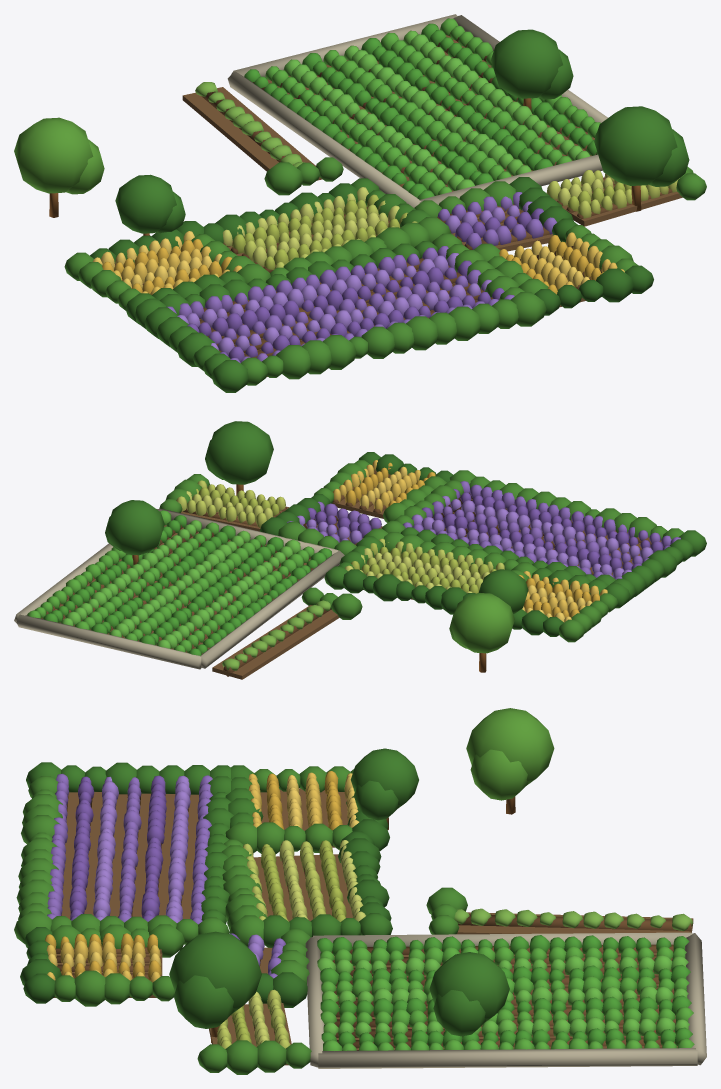
Rendered from improvement_farm_0_0.fbx.
The picture shows the model from 3 angles, top to bottom: view 1: azimuth 30°, elevation 25°; view 2: azimuth 150°, elevation 25°; view 3: azimuth 270°, elevation 25°; orthographic projection. The views are drawn at different scales.
Parts seen in each view (by area): view 1: improvement_farm_0_0_hedge2_05, improvement_farm_0_0_leaf#3f7a2c_30, improvement_farm_0_0_crop#4c9a36_26, improvement_farm_0_0_crop#5aa83e_25, improvement_farm_0_0_crop#68b448_27, improvement_farm_0_0_crop#8a6ab8_02, improvement_farm_0_0_fwall_28, improvement_farm_0_0_crop#9a7ac8_04, improvement_farm_0_0_crop#7a5aa8_03, improvement_farm_0_0_hedge0.001_15, improvement_farm_0_0_leaf#5a9a38.001_31, improvement_farm_0_0_hedge2.001_08 (+16 smaller); view 2: improvement_farm_0_0_crop#5aa83e_25, improvement_farm_0_0_crop#4c9a36_26, improvement_farm_0_0_leaf#3f7a2c_30, improvement_farm_0_0_fwall_28, improvement_farm_0_0_crop#68b448_27, improvement_farm_0_0_hedge2_05, improvement_farm_0_0_crop#8a6ab8_02, improvement_farm_0_0_hedge0.001_15, improvement_farm_0_0_crop#9a7ac8_04, improvement_farm_0_0_crop#7a5aa8_03, improvement_farm_0_0_hedge2.002_20, improvement_farm_0_0_crop#b8c45a_17 (+16 smaller); view 3: improvement_farm_0_0_leaf#3f7a2c_30, improvement_farm_0_0_crop#4c9a36_26, improvement_farm_0_0_tilled_00, improvement_farm_0_0_fwall_28, improvement_farm_0_0_crop#5aa83e_25, improvement_farm_0_0_hedge0.001_15, improvement_farm_0_0_crop#68b448_27, improvement_farm_0_0_hedge2_05, improvement_farm_0_0_crop#8a6ab8_02, improvement_farm_0_0_leaf#5a9a38.001_31, improvement_farm_0_0_hedge2.001_08, improvement_farm_0_0_crop#9a7ac8_04 (+16 smaller).
Boxes of the visible parts, x1=… form: improvement_farm_0_0_hedge2_05: x1=240, y1=157, x2=546, y2=385; improvement_farm_0_0_leaf#3f7a2c_30: x1=115, y1=29, x2=689, y2=233; improvement_farm_0_0_crop#4c9a36_26: x1=244, y1=23, x2=597, y2=199; improvement_farm_0_0_crop#5aa83e_25: x1=265, y1=18, x2=600, y2=195; improvement_farm_0_0_crop#68b448_27: x1=283, y1=30, x2=590, y2=190; improvement_farm_0_0_crop#8a6ab8_02: x1=166, y1=192, x2=556, y2=363; improvement_farm_0_0_fwall_28: x1=227, y1=14, x2=607, y2=207; improvement_farm_0_0_crop#9a7ac8_04: x1=177, y1=201, x2=532, y2=355; improvement_farm_0_0_crop#7a5aa8_03: x1=187, y1=208, x2=543, y2=361; improvement_farm_0_0_hedge0.001_15: x1=64, y1=166, x2=706, y2=310; improvement_farm_0_0_leaf#5a9a38.001_31: x1=14, y1=117, x2=104, y2=194; improvement_farm_0_0_hedge2.001_08: x1=144, y1=178, x2=431, y2=392; improvement_farm_0_0_crop#5aa83e_25: x1=27, y1=510, x2=314, y2=652; improvement_farm_0_0_crop#4c9a36_26: x1=43, y1=515, x2=331, y2=655; improvement_farm_0_0_leaf#3f7a2c_30: x1=105, y1=421, x2=528, y2=613; improvement_farm_0_0_fwall_28: x1=14, y1=508, x2=344, y2=669; improvement_farm_0_0_crop#68b448_27: x1=61, y1=520, x2=300, y2=648; improvement_farm_0_0_hedge2_05: x1=301, y1=470, x2=683, y2=619; improvement_farm_0_0_crop#8a6ab8_02: x1=287, y1=481, x2=680, y2=579; improvement_farm_0_0_hedge0.001_15: x1=159, y1=460, x2=617, y2=642; improvement_farm_0_0_crop#9a7ac8_04: x1=297, y1=496, x2=653, y2=578; improvement_farm_0_0_crop#7a5aa8_03: x1=307, y1=489, x2=670, y2=572; improvement_farm_0_0_hedge2.002_20: x1=259, y1=494, x2=475, y2=614; improvement_farm_0_0_crop#b8c45a_17: x1=176, y1=480, x2=504, y2=590; improvement_farm_0_0_leaf#3f7a2c_30: x1=169, y1=748, x2=509, y2=1036; improvement_farm_0_0_crop#4c9a36_26: x1=317, y1=935, x2=692, y2=1048; improvement_farm_0_0_tilled_00: x1=54, y1=788, x2=693, y2=1065; improvement_farm_0_0_fwall_28: x1=305, y1=932, x2=706, y2=1068; improvement_farm_0_0_crop#5aa83e_25: x1=320, y1=946, x2=694, y2=1050; improvement_farm_0_0_hedge0.001_15: x1=52, y1=766, x2=353, y2=1074; improvement_farm_0_0_crop#68b448_27: x1=317, y1=955, x2=689, y2=1037; improvement_farm_0_0_hedge2_05: x1=14, y1=776, x2=467, y2=946; improvement_farm_0_0_crop#8a6ab8_02: x1=47, y1=773, x2=285, y2=978; improvement_farm_0_0_leaf#5a9a38.001_31: x1=466, y1=708, x2=554, y2=800; improvement_farm_0_0_hedge2.001_08: x1=26, y1=762, x2=392, y2=947; improvement_farm_0_0_crop#9a7ac8_04: x1=93, y1=775, x2=264, y2=966.
Size of the model in its own units: 205 by 36.21 by 205.
